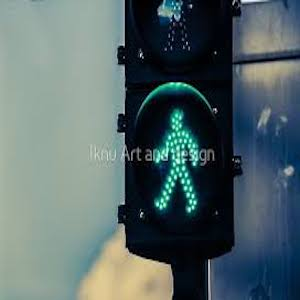green: (149, 107, 212, 214)
